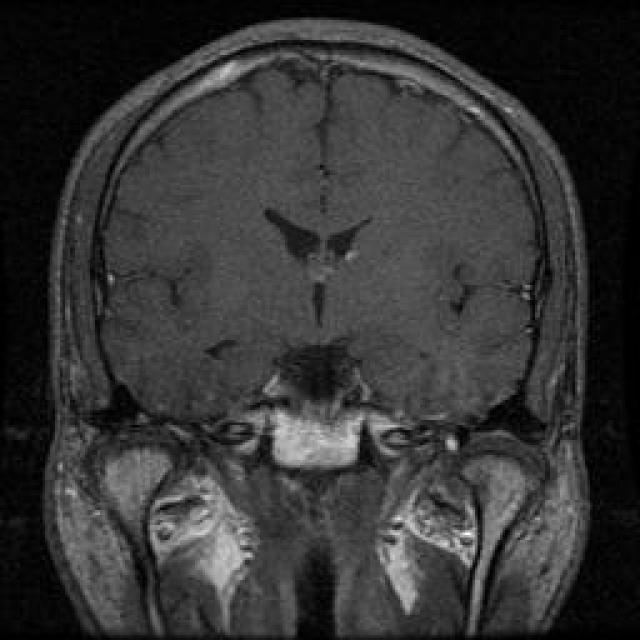pituitary: (264, 344, 370, 471)
